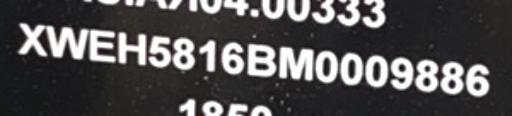letter: (10, 20, 48, 58), (48, 25, 88, 58), (281, 42, 313, 82), (244, 42, 278, 76), (119, 29, 149, 63), (88, 27, 116, 63), (218, 38, 244, 76), (170, 35, 194, 73), (440, 58, 464, 95), (314, 50, 338, 84), (414, 58, 440, 89), (150, 32, 172, 68), (196, 37, 218, 73), (342, 50, 364, 86), (388, 55, 412, 88), (466, 62, 490, 95), (365, 55, 387, 87)
